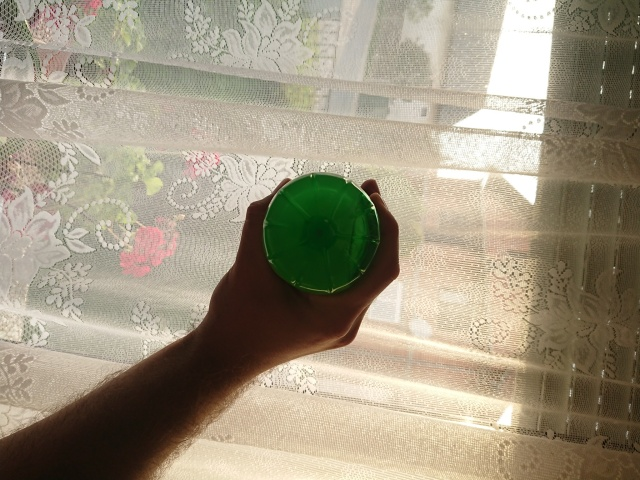Vindi Iso Sport Lemon-Grapefruit 500mL: (257, 169, 385, 300)
